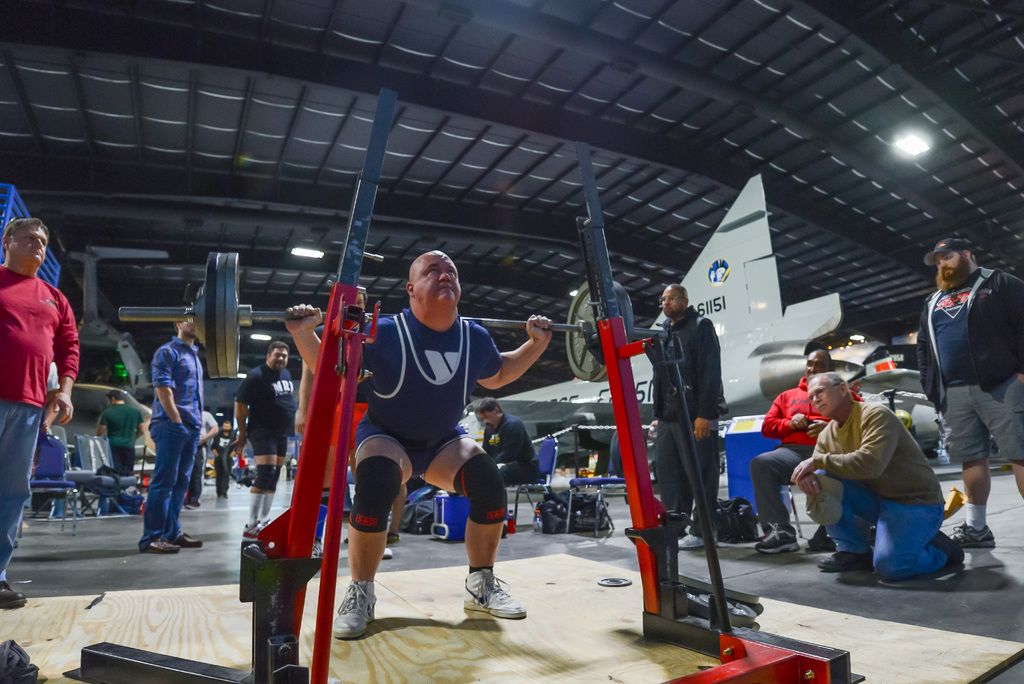Person: (0, 217, 1024, 638)
